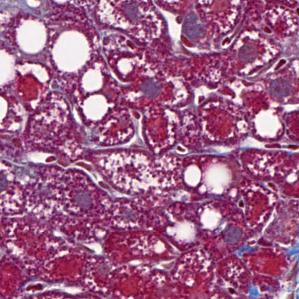steatosis: (53, 30, 91, 72), (17, 16, 47, 54)
